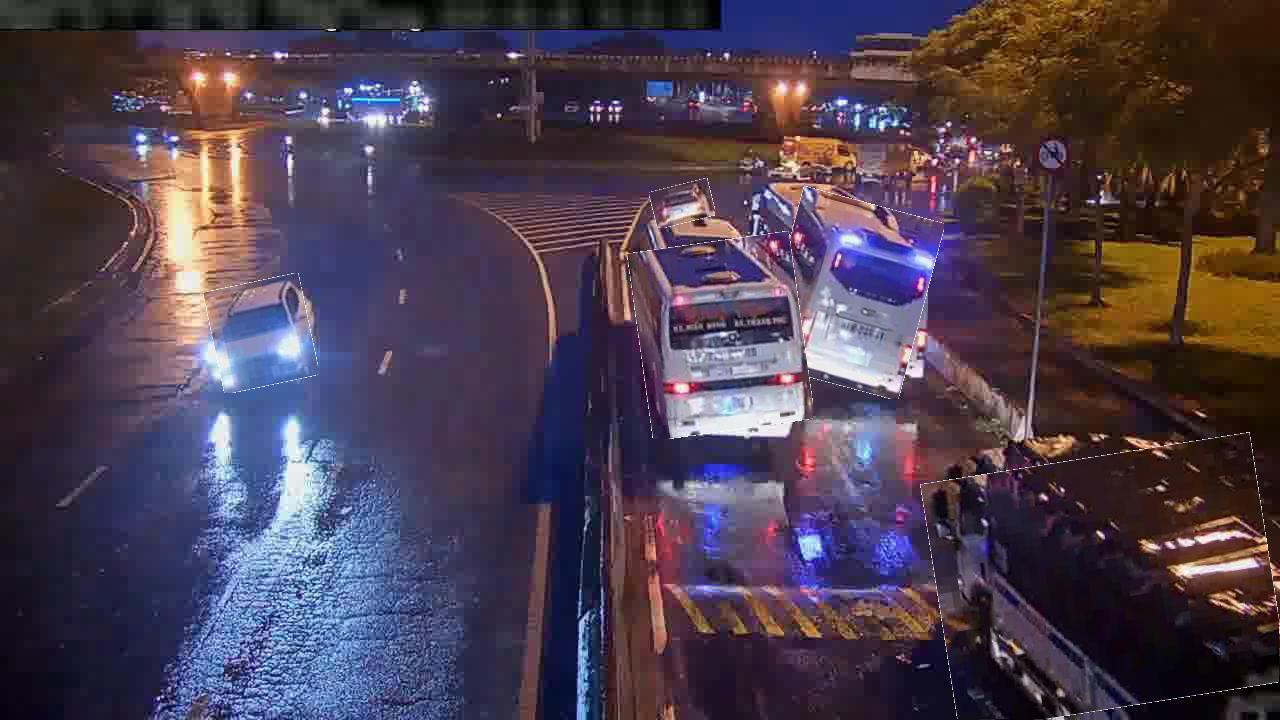14: (633, 236, 808, 435), (768, 194, 935, 393)
8: (929, 444, 1279, 719)
container: (208, 278, 315, 390), (651, 182, 715, 226)
